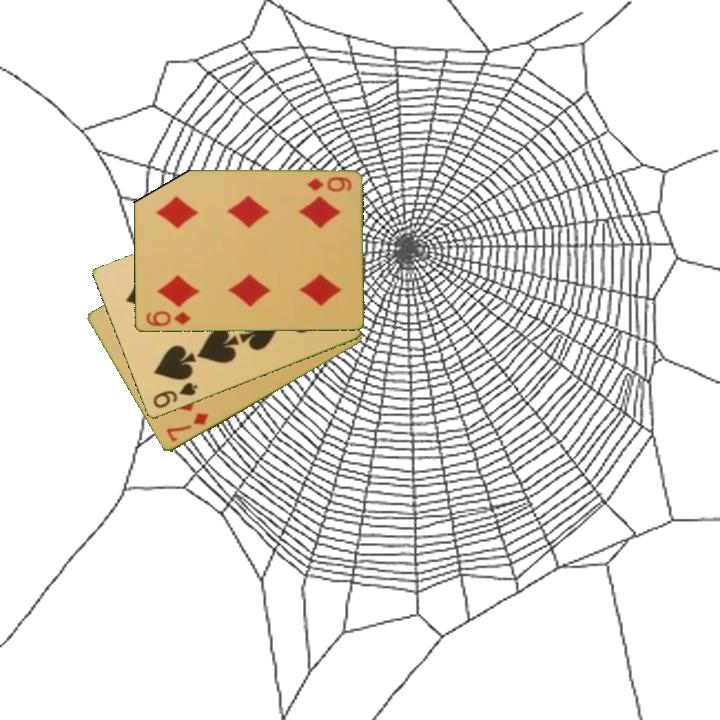6d: (142, 307, 194, 330), (304, 174, 354, 195)
7d: (162, 409, 212, 445)
9s: (149, 379, 200, 412)
